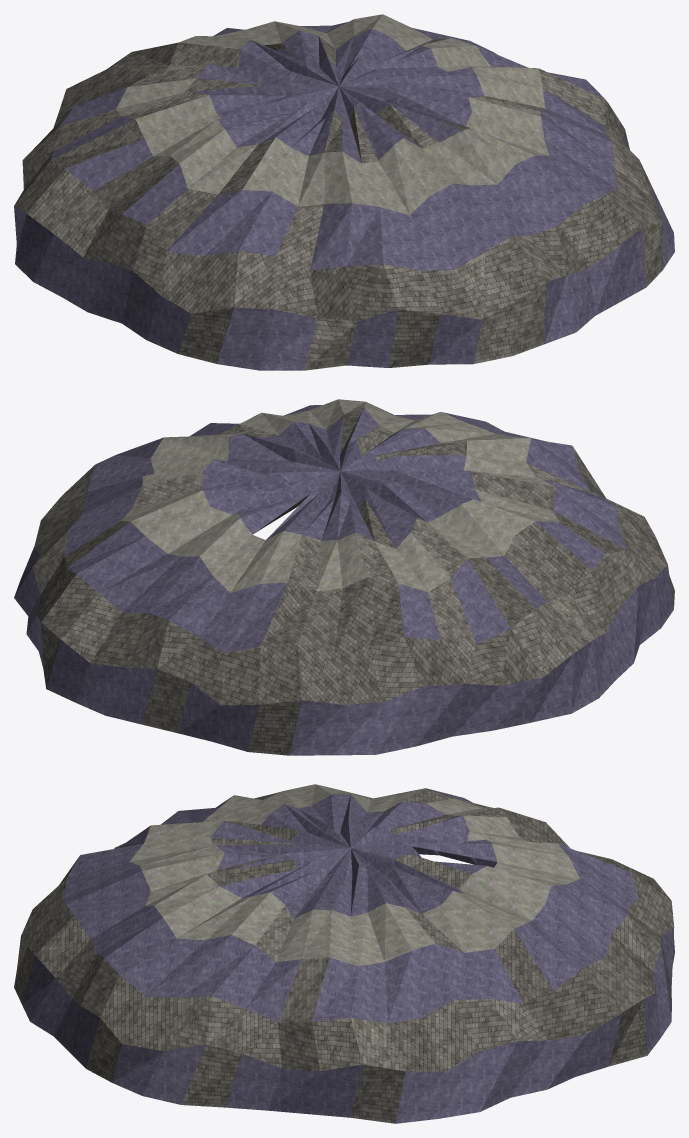
Rendered from cave-vault.glb.
3 renders of one model, top to bottom at view 1: azimuth 30°, elevation 25°; view 2: azimuth 150°, elevation 25°; view 3: azimuth 270°, elevation 25°, orthographic. The views are drawn at different scales.
Visible parts, largest first — view 1: cave-vault; view 2: cave-vault; view 3: cave-vault.
Part boxes in pixels (x1,y1,x2,y2): cave-vault: (14,14,674,370); cave-vault: (14,399,674,755); cave-vault: (14,784,674,1123).
Bounding box in the file's own units: 47.77 × 11.76 × 49.28.
3 materials, 3 textured.
